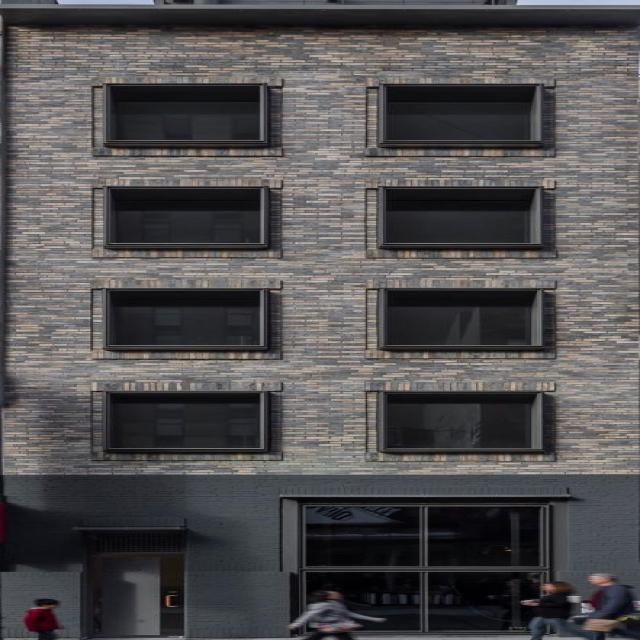door: (90, 554, 187, 636)
window: (295, 499, 542, 630), (382, 392, 539, 448), (102, 392, 258, 447), (111, 296, 271, 344), (393, 294, 540, 344), (121, 94, 259, 139), (395, 94, 533, 138), (400, 200, 537, 240), (129, 199, 262, 239)
